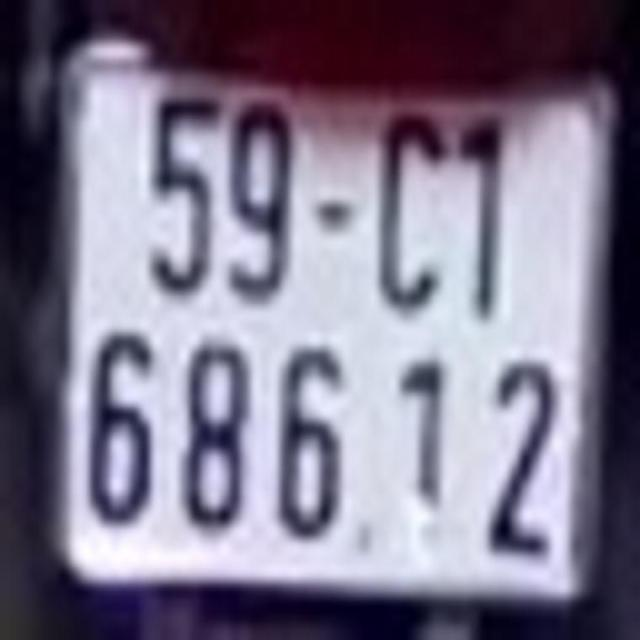1: (393, 337, 458, 560), (451, 90, 506, 320)
2: (487, 343, 560, 564)
5: (142, 86, 220, 300)
6: (276, 327, 341, 547), (88, 323, 155, 528)
8: (185, 327, 250, 532)
9: (225, 85, 290, 306)
C: (372, 95, 447, 314)
